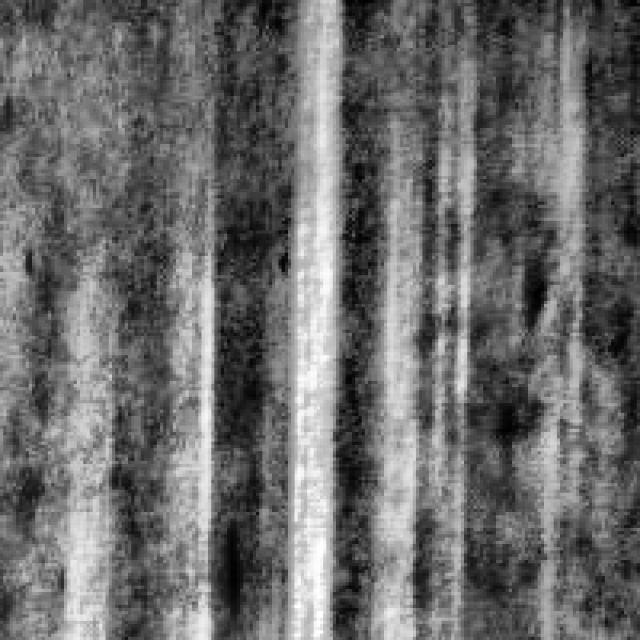Inclusion: (266, 57, 340, 634)
